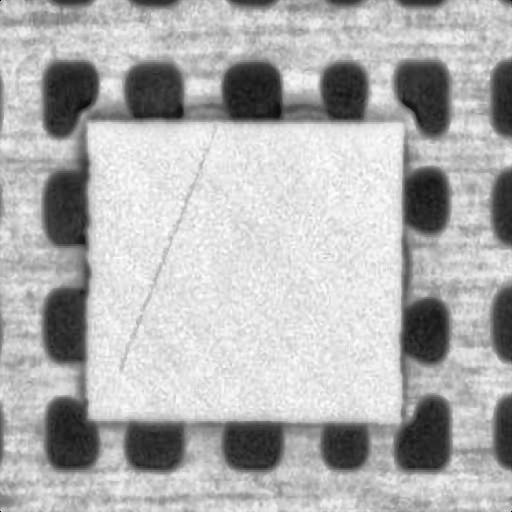DIE_CRACK: (157, 95, 284, 277)
